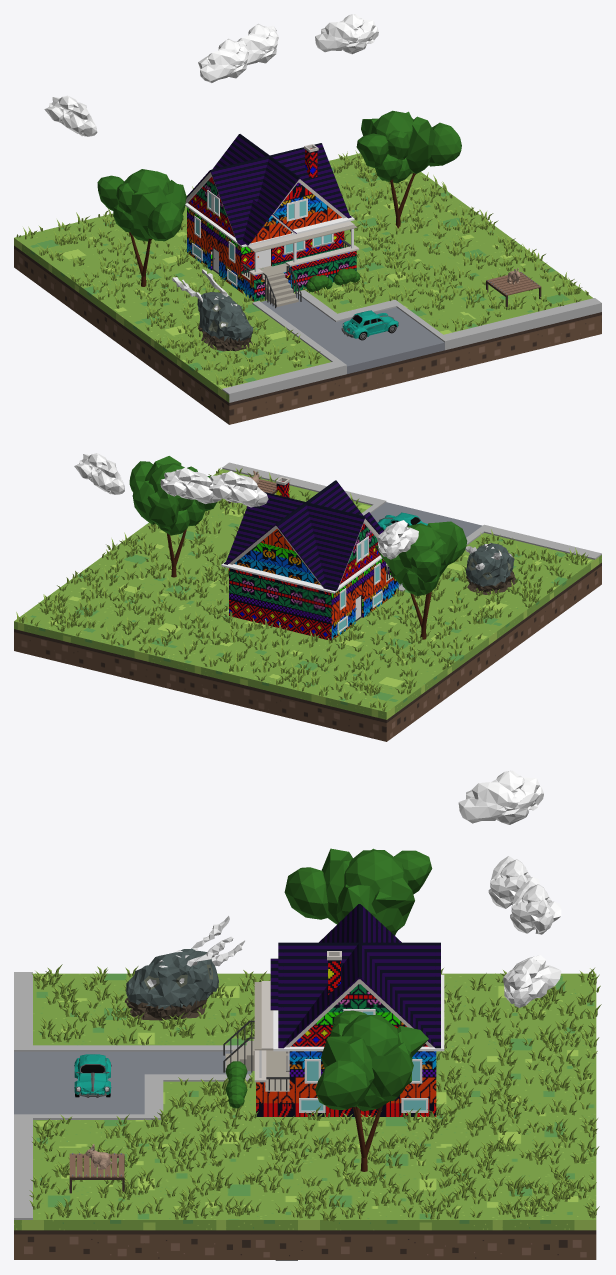
3 renders of one model, top to bottom at view 1: azimuth 30°, elevation 25°; view 2: azimuth 150°, elevation 25°; view 3: azimuth 270°, elevation 25°, orthographic. The views are drawn at different scales.
Parts seen in each view (by area): view 1: Cube.006, Cube.966, Circle.012_Grass_0.192, Cube.007, tree, tree.001, OBJRANDOM_METEORITE, VEHICLES_VOLKSWAGEN, Cube.009; view 2: Cube.006, Cube.966, Circle.012_Grass_0.192, Cube.007, tree.001, tree, OBJRANDOM_METEORITE, VEHICLES_VOLKSWAGEN; view 3: Cube.006, Circle.012_Grass_0.192, Cube.966, tree, Cube.007, tree.001, OBJRANDOM_METEORITE, VEHICLES_VOLKSWAGEN, Cube.009.
Part boxes in pixels (x1,y1,x2,y2): Cube.006: (14,153,601,424); Cube.966: (185,134,359,308); Circle.012_Grass_0.192: (16,150,588,386); Cube.007: (44,14,378,136); tree: (356,110,461,228); tree.001: (97,169,186,286); OBJRANDOM_METEORITE: (172,269,252,351); VEHICLES_VOLKSWAGEN: (341,310,398,340); Cube.009: (486,272,541,306); Cube.006: (14,462,601,741); Cube.966: (221,477,398,640); Circle.012_Grass_0.192: (16,468,588,711); Cube.007: (74,453,418,559); tree.001: (375,521,467,639); tree: (129,456,216,577); OBJRANDOM_METEORITE: (465,543,516,594); VEHICLES_VOLKSWAGEN: (377,512,427,530); Cube.006: (14,972,596,1259); Circle.012_Grass_0.192: (29,964,601,1221); Cube.966: (223,904,444,1116); tree: (315,1010,428,1171); Cube.007: (458,770,561,1007); tree.001: (284,848,432,935); OBJRANDOM_METEORITE: (125,916,244,1020); VEHICLES_VOLKSWAGEN: (74,1054,111,1097); Cube.009: (69,1153,124,1193).
Size of the model in its own units: 4071 by 2184 by 4040.
40 materials, 7 textured.
